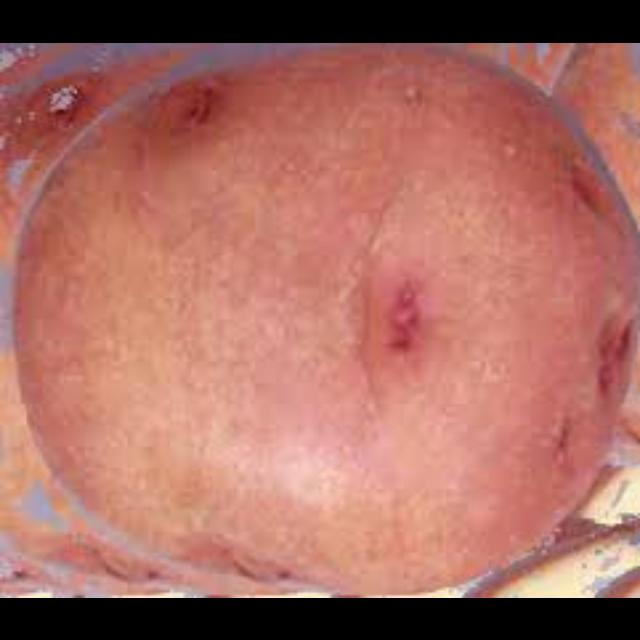Defected potato: (10, 42, 634, 598)
